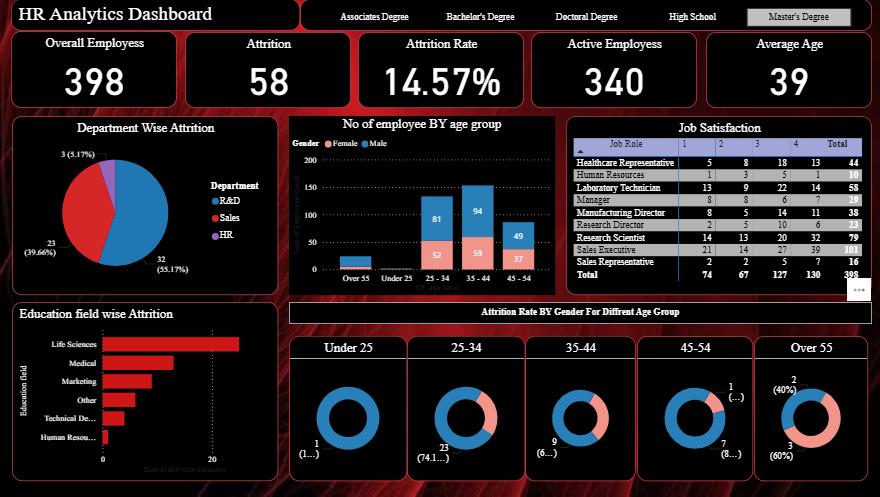

What the dashboard file says about the page in this screenshot:
{"tool":"powerbi","page":{"name":"Page 1","canvas":[1280,720],"ordinal":0},"visuals":[{"type":"card","title":"Overall Employess","fields":{"Values":["Sum(HR Data xlsx - HR data.Employee Count)"]},"box":[19.4,46.5,240,111],"z":0},{"type":"card","title":"Attrition","fields":{"Values":["Sum(HR Data xlsx - HR data.Attrition coloumn)"]},"box":[271,47.7,240,109.7],"z":1000},{"type":"card","title":"Attrition Rate","fields":{"Values":["HR Data xlsx - HR data.Attrition Rate"]},"box":[520,47.7,240,109.7],"z":2000},{"type":"card","title":"Active Employess","fields":{"Values":["HR Data xlsx - HR data.Active Employess"]},"box":[770.3,47.7,240,109.7],"z":3000},{"type":"card","title":"Average Age","fields":{"Values":["Avg(HR Data xlsx - HR data.Age)"]},"box":[1023.2,47.7,240,109.7],"z":4000},{"type":"pieChart","title":"Department Wise Attrition","fields":{"Category":["HR Data xlsx - HR data.Department"],"Y":["Sum(HR Data xlsx - HR data.Attrition coloumn)"]},"box":[20,168.8,384.7,258.9],"z":5000},{"type":"columnChart","title":"No of employee BY age group","fields":{"Category":["HR Data xlsx - HR data.CF_age band"],"Y":["Sum(HR Data xlsx - HR data.Employee Count)"],"Series":["HR Data xlsx - HR data.Gender"]},"box":[420.5,168.8,384.7,258.9],"z":6000},{"type":"pivotTable","title":"Job Satisfaction","fields":{"Rows":["HR Data xlsx - HR data.Job Role"],"Columns":["HR Data xlsx - HR data.Job Satisfaction"],"Values":["Sum(HR Data xlsx - HR data.Employee Count)"]},"box":[821.2,169.2,442.4,258.8],"z":7000},{"type":"barChart","title":"Education field wise Attrition","fields":{"Category":["HR Data xlsx - HR data.Education Field"],"Y":["Sum(HR Data xlsx - HR data.Attrition coloumn)"]},"box":[20,438,385,259],"z":8000},{"type":"textbox","box":[420.7,438.1,842.9,31.8],"z":9000},{"type":"donutChart","title":"Over 55","fields":{"Category":["HR Data xlsx - HR data.Gender"],"Y":["Sum(HR Data xlsx - HR data.Attrition coloumn)"],"Series":["HR Data xlsx - HR data.CF_age band"]},"box":[1095.9,487.2,164.8,209.6],"z":10000},{"type":"donutChart","title":"45-54","fields":{"Category":["HR Data xlsx - HR data.Gender"],"Y":["Sum(HR Data xlsx - HR data.Attrition coloumn)"],"Series":["HR Data xlsx - HR data.CF_age band"]},"box":[925.3,487.2,167.7,209.6],"z":11000},{"type":"donutChart","title":"35-44","fields":{"Category":["HR Data xlsx - HR data.Gender"],"Y":["Sum(HR Data xlsx - HR data.Attrition coloumn)"],"Series":["HR Data xlsx - HR data.CF_age band"]},"box":[761.9,487.2,160.5,209.6],"z":12000},{"type":"donutChart","title":"25-34","fields":{"Category":["HR Data xlsx - HR data.Gender"],"Y":["Sum(HR Data xlsx - HR data.Attrition coloumn)"],"Series":["HR Data xlsx - HR data.CF_age band"]},"box":[595.7,487.2,163.4,209.6],"z":13000},{"type":"donutChart","title":"Under 25","fields":{"Category":["HR Data xlsx - HR data.Gender"],"Y":["Sum(HR Data xlsx - HR data.Attrition coloumn)"],"Series":["HR Data xlsx - HR data.CF_age band"]},"box":[420.7,487.2,170.6,209.6],"z":14000}]}

Visuals, with their boxes in screenshot pixels (x1, y1, x2, y2), scaled from the page's 1280x720 canvas onto the 880x497 screenshot:
"Overall Employess" card: detection(13, 32, 178, 109)
"Attrition" card: detection(186, 33, 351, 109)
"Attrition Rate" card: detection(358, 33, 522, 109)
"Active Employess" card: detection(530, 33, 695, 109)
"Average Age" card: detection(703, 33, 868, 109)
"Department Wise Attrition" pieChart: detection(14, 117, 278, 295)
"No of employee BY age group" columnChart: detection(289, 117, 554, 295)
"Job Satisfaction" pivotTable: detection(565, 117, 869, 295)
"Education field wise Attrition" barChart: detection(14, 302, 278, 481)
textbox: detection(289, 302, 869, 324)
"Over 55" donutChart: detection(753, 336, 867, 481)
"45-54" donutChart: detection(636, 336, 751, 481)
"35-44" donutChart: detection(524, 336, 634, 481)
"25-34" donutChart: detection(410, 336, 522, 481)
"Under 25" donutChart: detection(289, 336, 407, 481)
